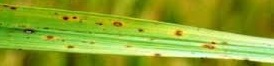Bercak Coklat: (108, 19, 127, 31), (41, 33, 58, 41), (59, 14, 71, 23)
